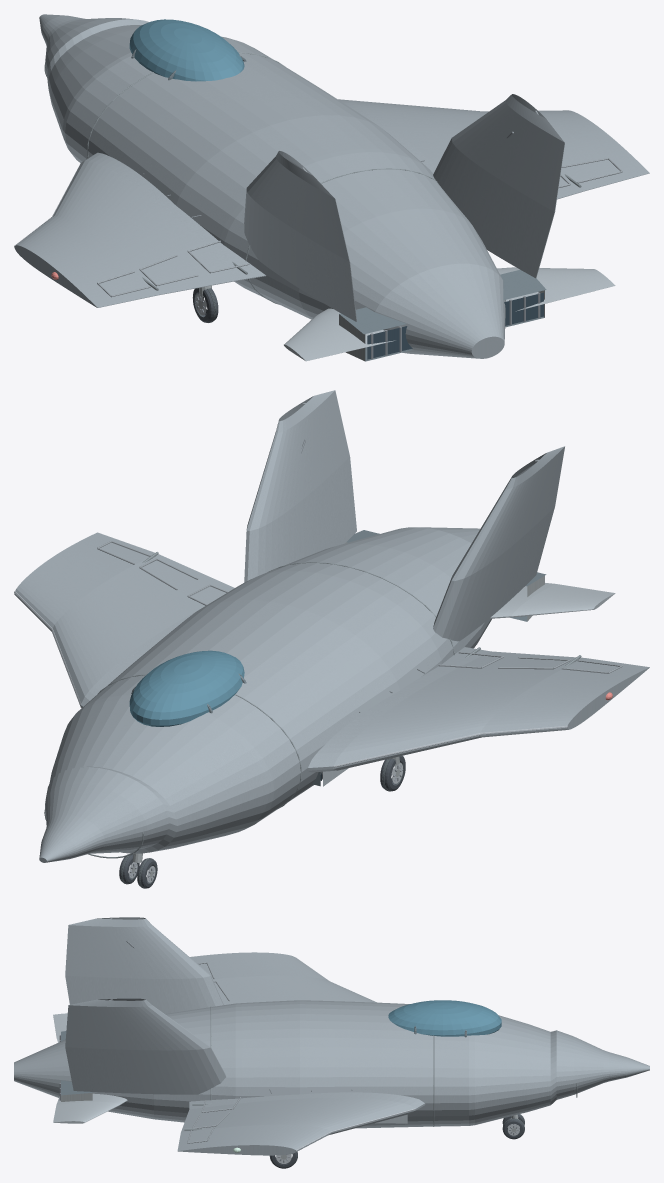
The picture shows the model from 3 angles, top to bottom: view 1: azimuth 30°, elevation 25°; view 2: azimuth 150°, elevation 25°; view 3: azimuth 270°, elevation 25°; orthographic projection. The views are drawn at different scales.
Parts seen in each view (by area): view 1: surface_stealth, surface_glass2, surface_stealthlight, surface_stealthdark, surface_engineblack, surface_seam, surface_stealthseam, surface_metal, surface_darkgrey; view 2: surface_stealth, surface_glass2, surface_stealthlight, surface_seam, surface_tire, surface_stealthseam, surface_aluminium; view 3: surface_stealth, surface_glass2, surface_stealthlight, surface_tire, surface_stealthseam, surface_seam.
Part boxes in pixels (<box>): surface_stealth: <box>14,14,649,358</box>; surface_glass2: <box>129,19,244,81</box>; surface_stealthlight: <box>284,267,615,361</box>; surface_stealthdark: <box>131,49,546,361</box>; surface_engineblack: <box>367,292,543,359</box>; surface_seam: <box>97,110,622,297</box>; surface_stealthseam: <box>44,52,581,304</box>; surface_metal: <box>198,285,544,361</box>; surface_darkgrey: <box>195,292,540,359</box>; surface_stealth: <box>14,390,649,862</box>; surface_glass2: <box>129,650,244,726</box>; surface_stealthlight: <box>323,583,615,786</box>; surface_seam: <box>97,403,622,673</box>; surface_tire: <box>119,755,405,888</box>; surface_stealthseam: <box>44,552,581,858</box>; surface_aluminium: <box>14,591,567,767</box>; surface_stealth: <box>14,917,649,1155</box>; surface_glass2: <box>388,1000,501,1036</box>; surface_stealthlight: <box>53,1013,407,1123</box>; surface_tire: <box>270,1114,524,1168</box>; surface_stealthseam: <box>184,1006,577,1130</box>; surface_seam: <box>109,918,240,1143</box>.
Size of the model in its own units: 13.74 by 5.82 by 18.92.
19 materials, 19 textured.
